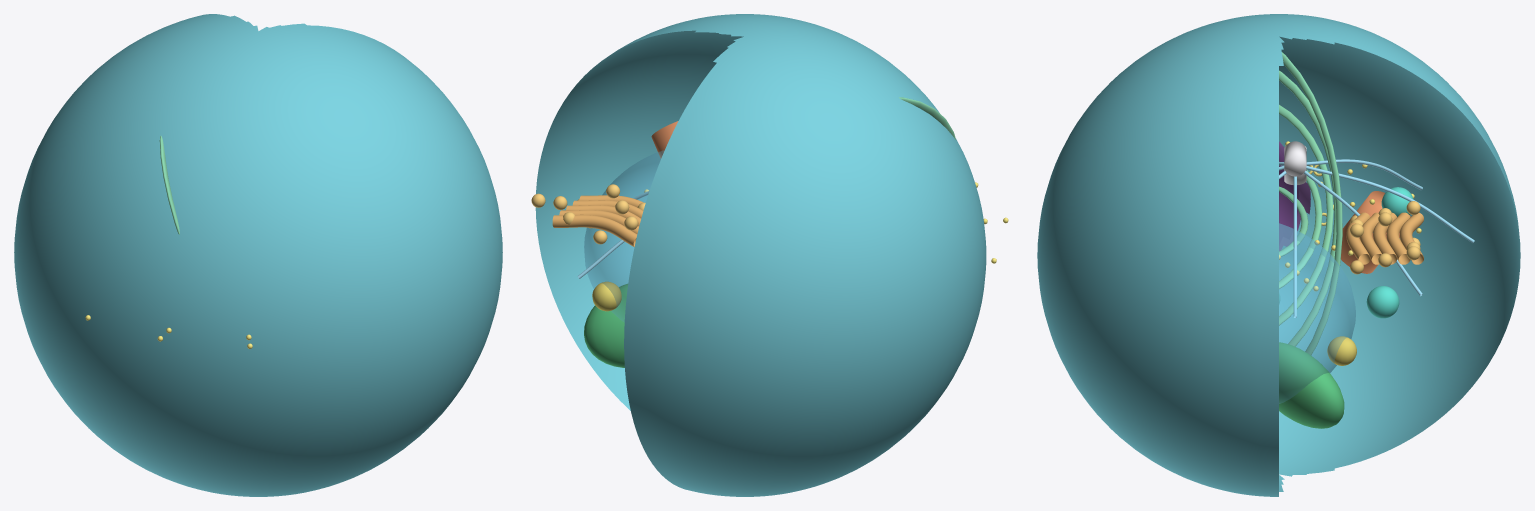
The model's file is cell_realistic.glb.
The picture shows the model from 3 angles, left to right: view 1: azimuth 30°, elevation 25°; view 2: azimuth 150°, elevation 25°; view 3: azimuth 270°, elevation 25°; orthographic projection.
Visible parts, largest first — view 1: Plasma_Membrane_Cutaway; view 2: Plasma_Membrane_Cutaway, Central_Vacuole, Chloroplast_1_Envelope, Golgi_Cisterna_5, Peroxisome_2; view 3: Plasma_Membrane_Cutaway, Central_Vacuole, Chloroplast_1_Envelope, ER_Cisterna_5, ER_Cisterna_3, ER_Cisterna_4, Mitochondrion_2_Outer, Nucleus_Inner_Membrane, Lysosome_1, ER_Cisterna_2, Centriole_Daughter, Microtubule_Filament_3 (+9 smaller).
Boxes of the visible parts, x1=… form: Plasma_Membrane_Cutaway: x1=14, y1=14, x2=502, y2=496; Plasma_Membrane_Cutaway: x1=535, y1=14, x2=986, y2=496; Central_Vacuole: x1=584, y1=150, x2=664, y2=321; Chloroplast_1_Envelope: x1=584, y1=284, x2=627, y2=367; Golgi_Cisterna_5: x1=552, y1=214, x2=637, y2=246; Peroxisome_2: x1=592, y1=281, x2=621, y2=311; Plasma_Membrane_Cutaway: x1=1037, y1=14, x2=1520, y2=496; Central_Vacuole: x1=1279, y1=223, x2=1355, y2=403; Chloroplast_1_Envelope: x1=1279, y1=342, x2=1344, y2=428; ER_Cisterna_5: x1=1282, y1=52, x2=1342, y2=355; ER_Cisterna_3: x1=1279, y1=104, x2=1333, y2=325; ER_Cisterna_4: x1=1279, y1=70, x2=1336, y2=346; Mitochondrion_2_Outer: x1=1341, y1=191, x2=1410, y2=273; Nucleus_Inner_Membrane: x1=1279, y1=150, x2=1299, y2=244; Lysosome_1: x1=1366, y1=286, x2=1399, y2=318; ER_Cisterna_2: x1=1279, y1=169, x2=1322, y2=288; Centriole_Daughter: x1=1284, y1=141, x2=1306, y2=176; Microtubule_Filament_3: x1=1306, y1=166, x2=1474, y2=242.
Bounding box in the file's own units: 6.53 × 6.5 × 6.5.
